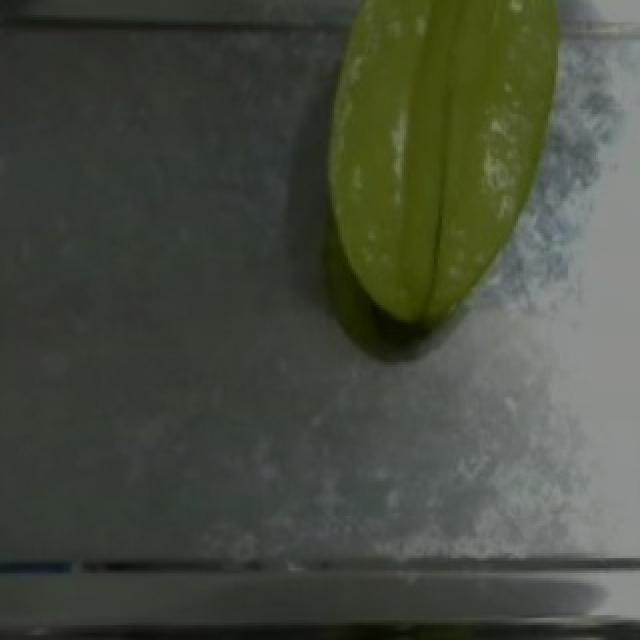fruit: (296, 0, 600, 352)
